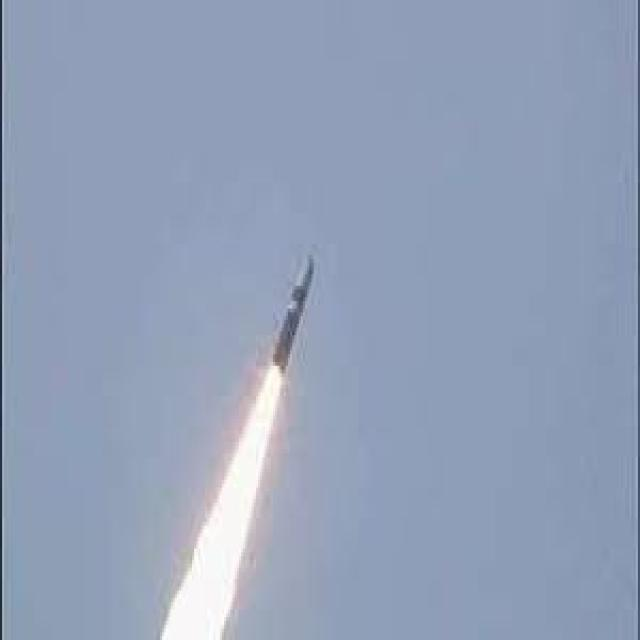missile: (262, 258, 314, 369)
